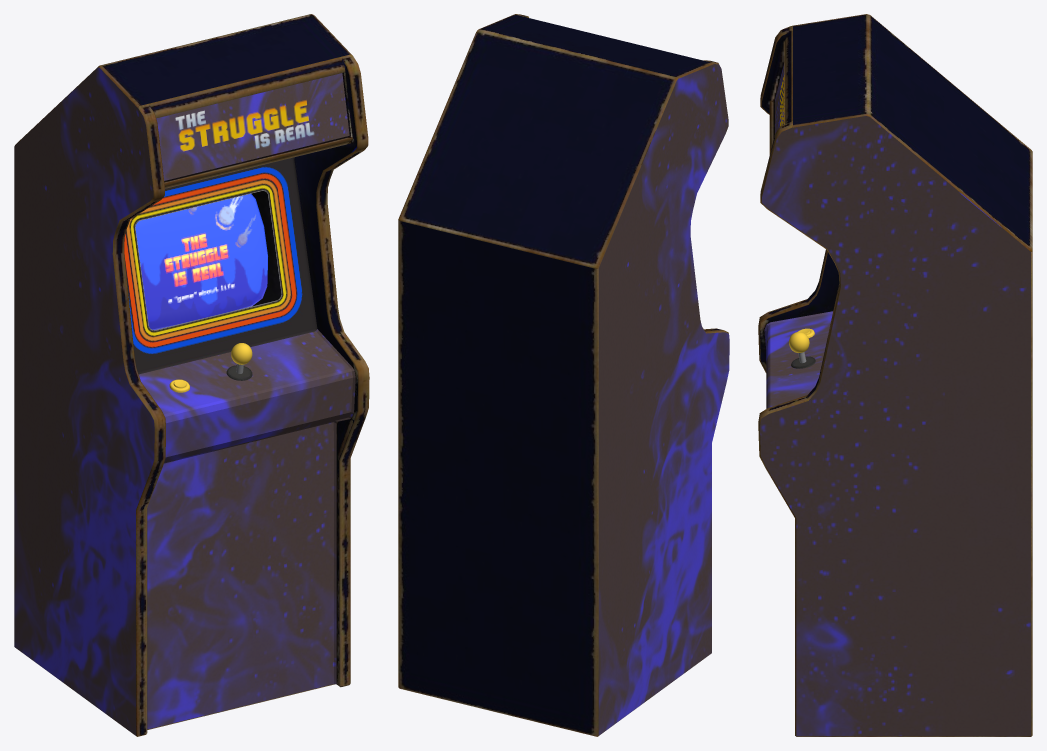
File: arcade.gltf
3 renders of one model, left to right at view 1: azimuth 30°, elevation 25°; view 2: azimuth 150°, elevation 25°; view 3: azimuth 270°, elevation 25°, orthographic. The views are drawn at different scales.
Visible parts, largest first — view 1: Arcade.003, Arcade.004, Arcade.005; view 2: Arcade.004, Arcade.003; view 3: Arcade.003, Arcade.004, Arcade.005.
Boxes of the visible parts, left/top/right/bottom form: Arcade.003: left=14, top=67, right=355, bottom=735; Arcade.004: left=15, top=14, right=369, bottom=736; Arcade.005: left=124, top=157, right=317, bottom=392; Arcade.004: left=398, top=14, right=728, bottom=736; Arcade.003: left=598, top=64, right=729, bottom=735; Arcade.003: left=760, top=63, right=1030, bottom=736; Arcade.004: left=758, top=14, right=1032, bottom=736; Arcade.005: left=789, top=328, right=815, bottom=368.
Bounding box in the file's own units: 0.6512 × 1.87 × 0.7448.
Materials: 4 (4 with a texture image).
